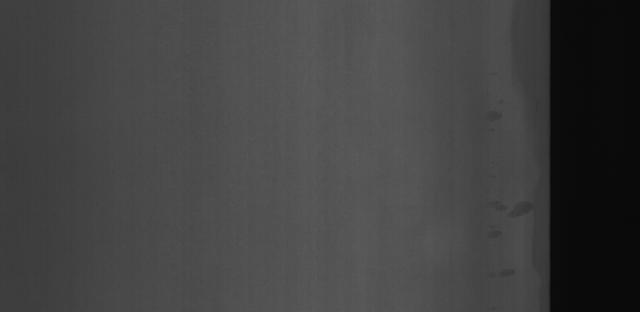oil_spot: (481, 195, 533, 232), (482, 100, 507, 132), (495, 260, 523, 285)
